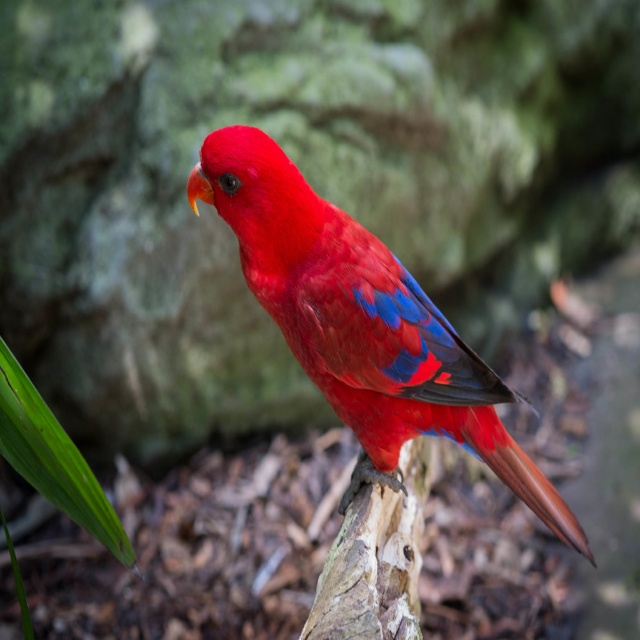Parrot: (182, 118, 599, 567)
